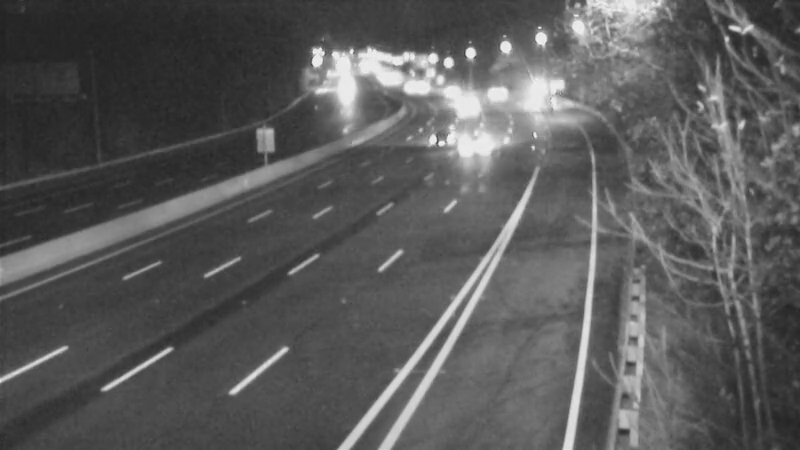vehicle: (467, 69, 517, 119), (424, 64, 474, 114), (435, 74, 485, 124), (445, 87, 495, 137), (514, 71, 564, 121), (415, 111, 465, 161), (459, 113, 509, 163)
